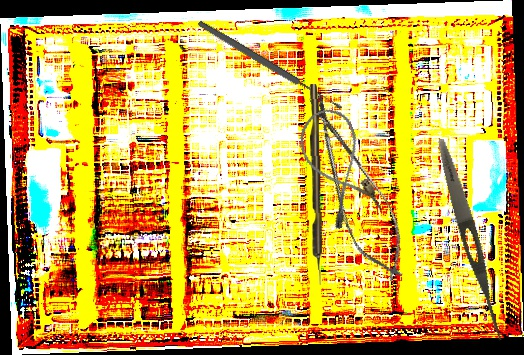Cannula: (291, 102, 385, 232)
Dressing Forceps: (431, 136, 512, 346)
Hook Surgical: (309, 83, 323, 286)
Micro Scissor: (289, 83, 421, 293)
Surgical Spoon: (196, 18, 344, 113)
